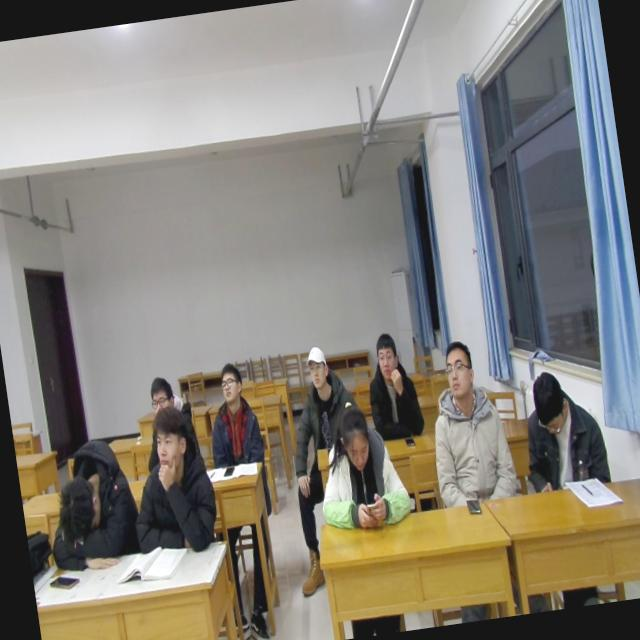bow: (34, 432, 150, 584)
down: (332, 402, 379, 478), (526, 366, 572, 441)
lookup: (146, 401, 194, 489), (436, 334, 483, 406), (368, 324, 407, 386), (301, 340, 334, 395), (214, 359, 248, 408), (146, 372, 178, 416)
sit: (416, 332, 520, 512), (116, 394, 226, 560), (306, 391, 414, 536), (514, 363, 614, 501), (279, 338, 358, 455), (356, 325, 429, 448), (197, 358, 268, 470), (138, 369, 200, 451)
